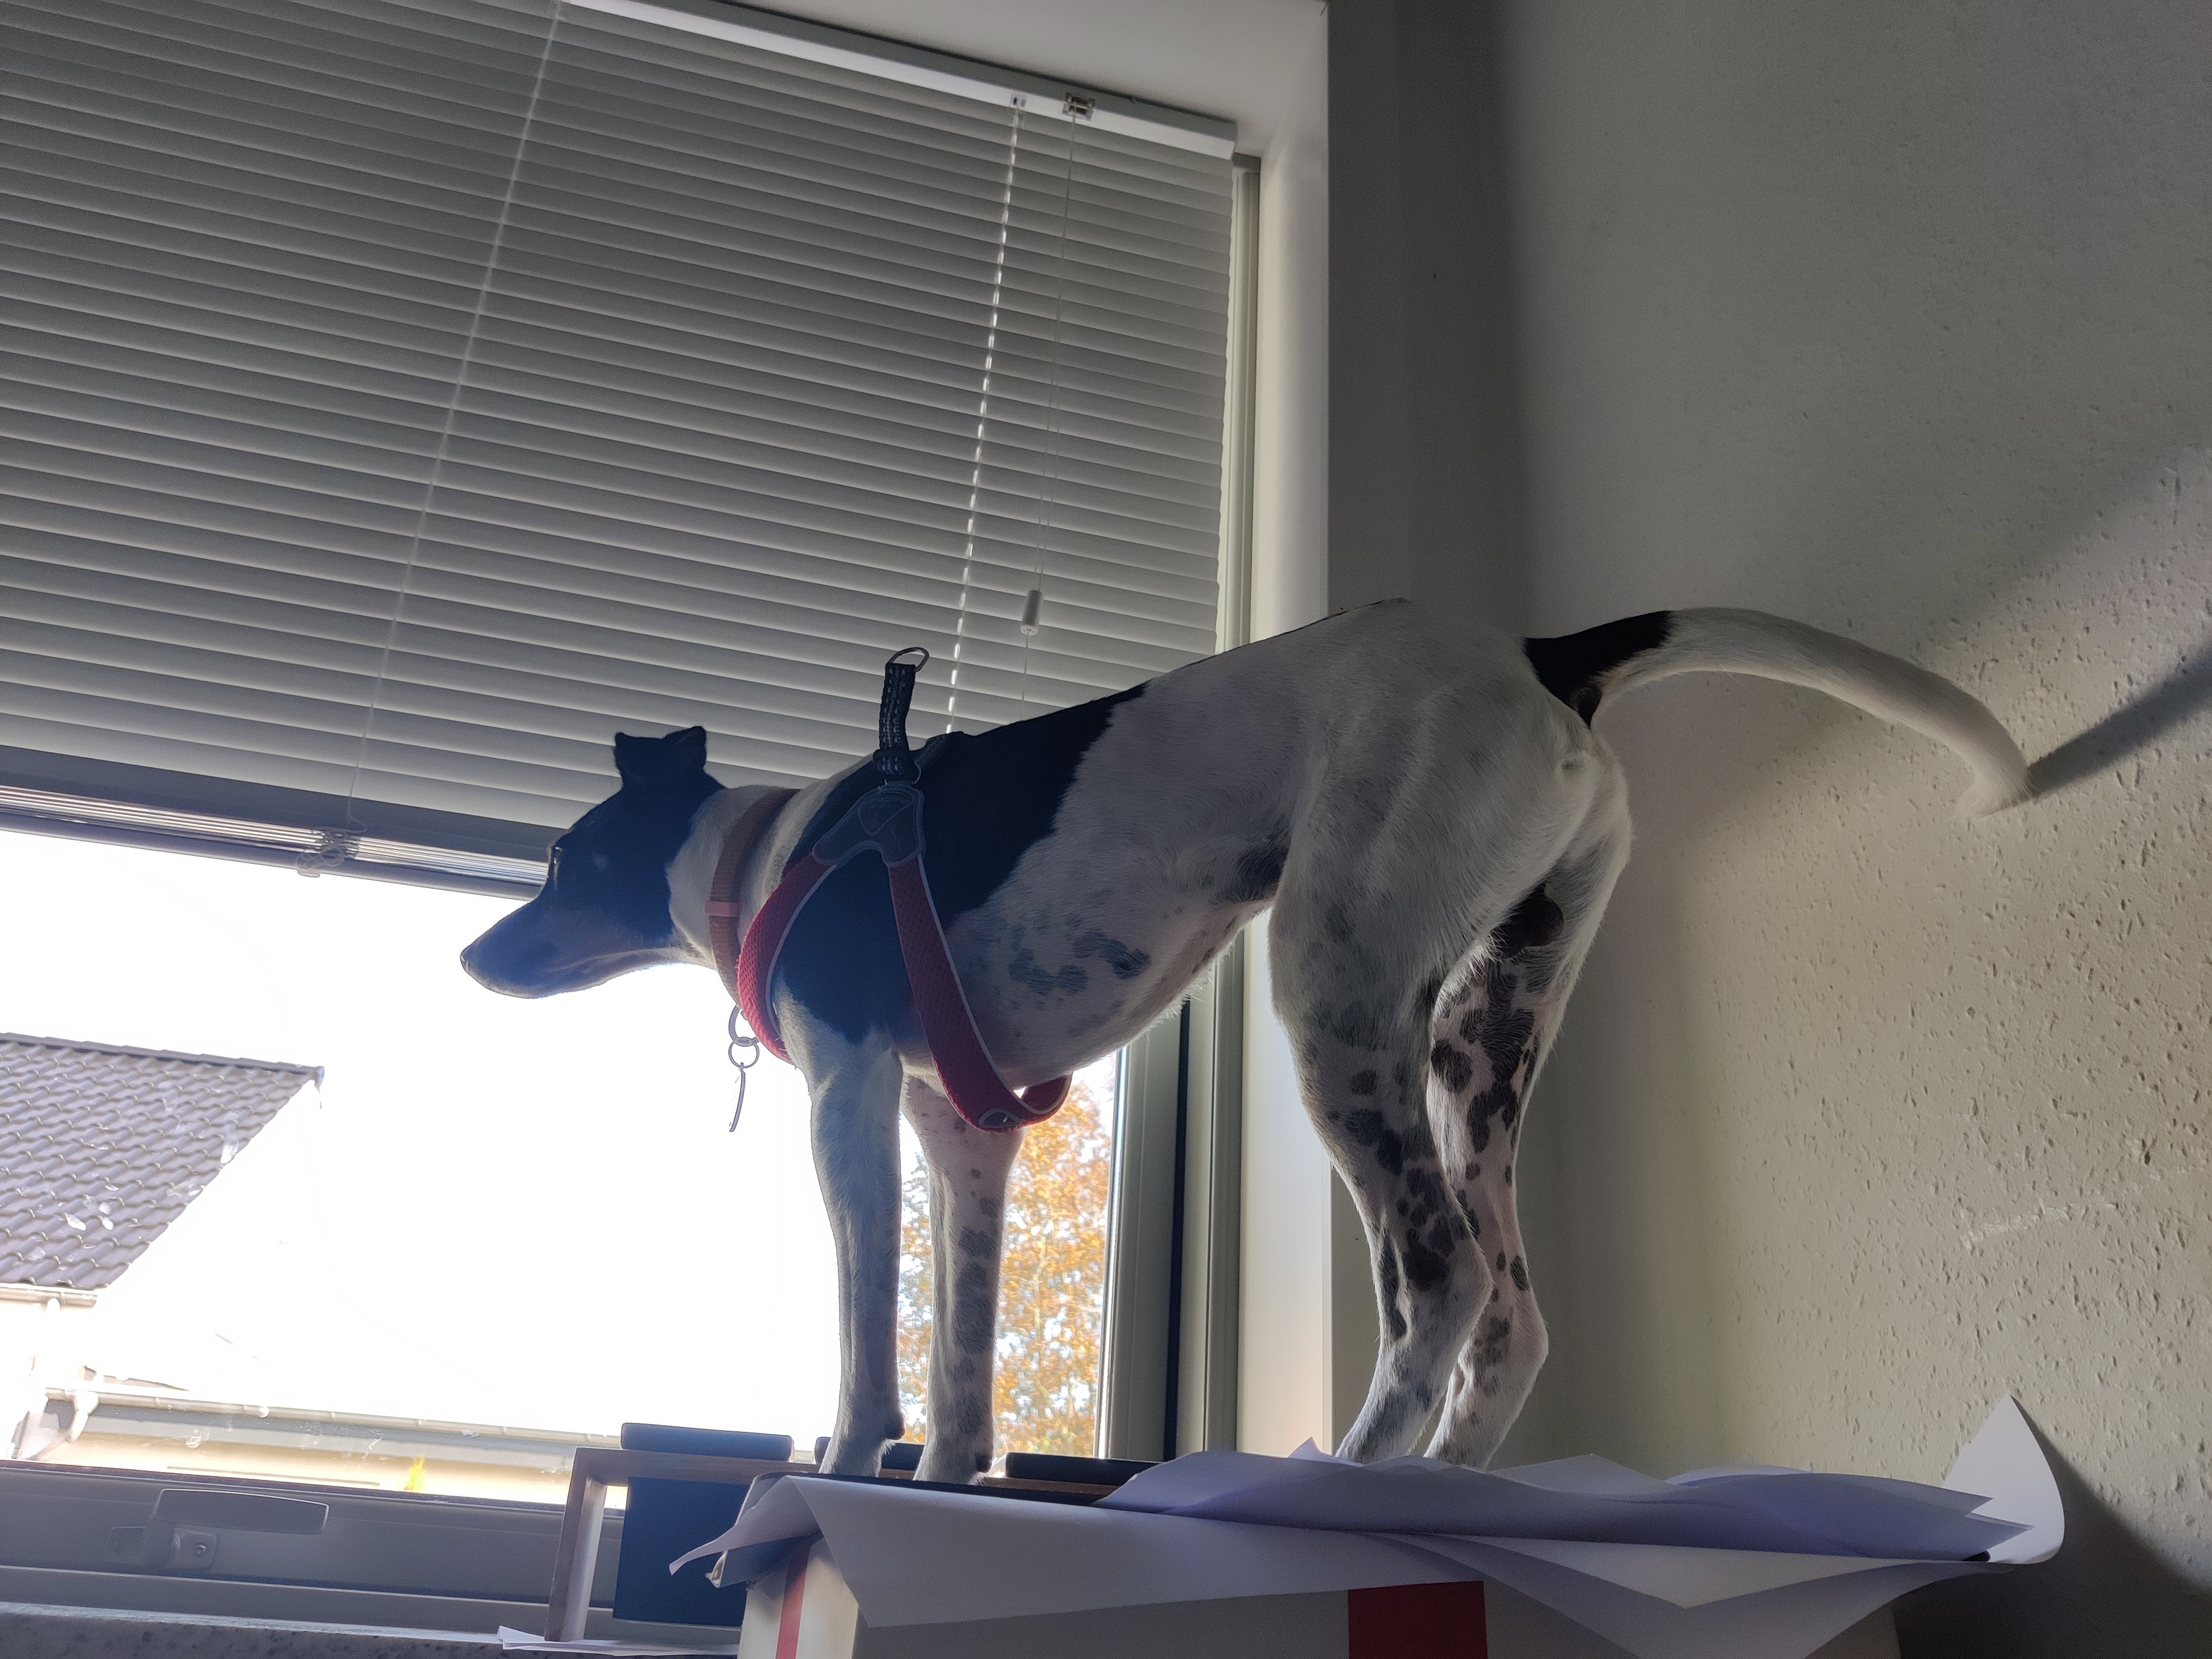Dog: (446, 587, 2043, 1481)
